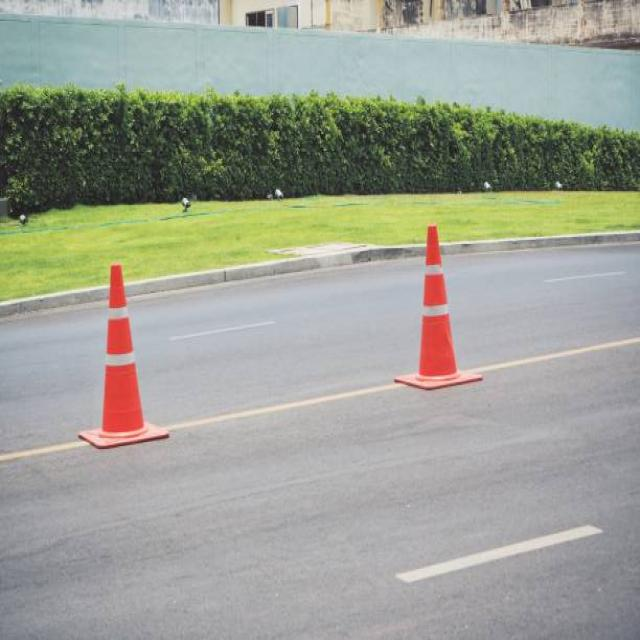Traffic Cone: (70, 247, 184, 469), (382, 196, 498, 412)
